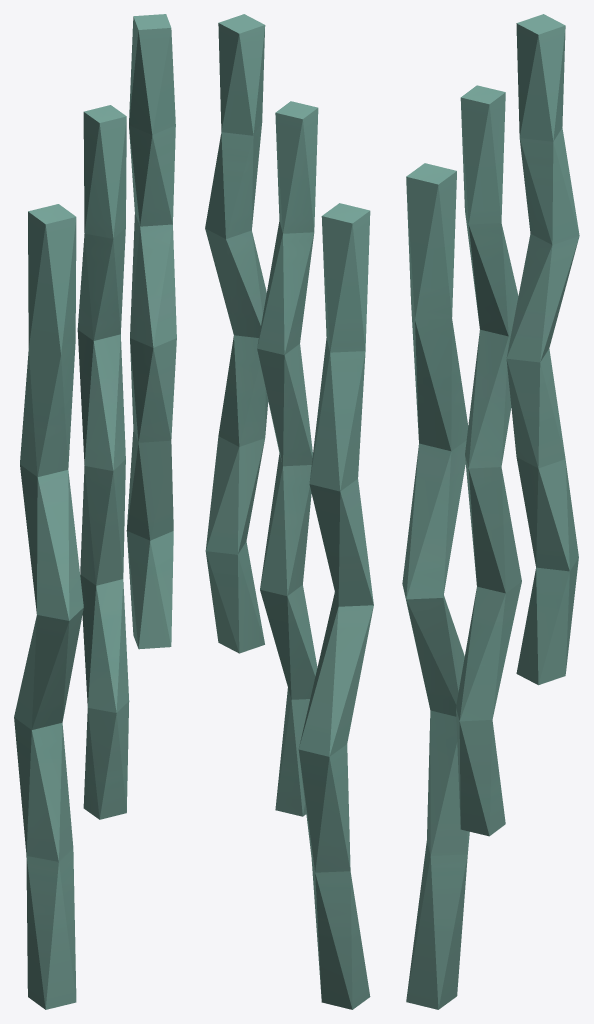
The model's file is vine_strands.glb.
3 renders of one model, left to right at view 1: azimuth 30°, elevation 25°; view 2: azimuth 150°, elevation 25°; view 3: azimuth 330°, elevation 25°, orthographic. The views are drawn at different scales.
Parts seen in each view (by area): view 1: Vine_A_1; view 2: Vine_A_1; view 3: Vine_A_1.
Boxes of the visible parts, x1,y1,x2,y2 form: Vine_A_1: (14,14,176,1009); Vine_A_1: (205,14,373,1009); Vine_A_1: (402,14,579,1009).
Size of the model in its own units: 0.2636 by 1.6 by 0.1464.
Materials: 1 (1 with a texture image).
